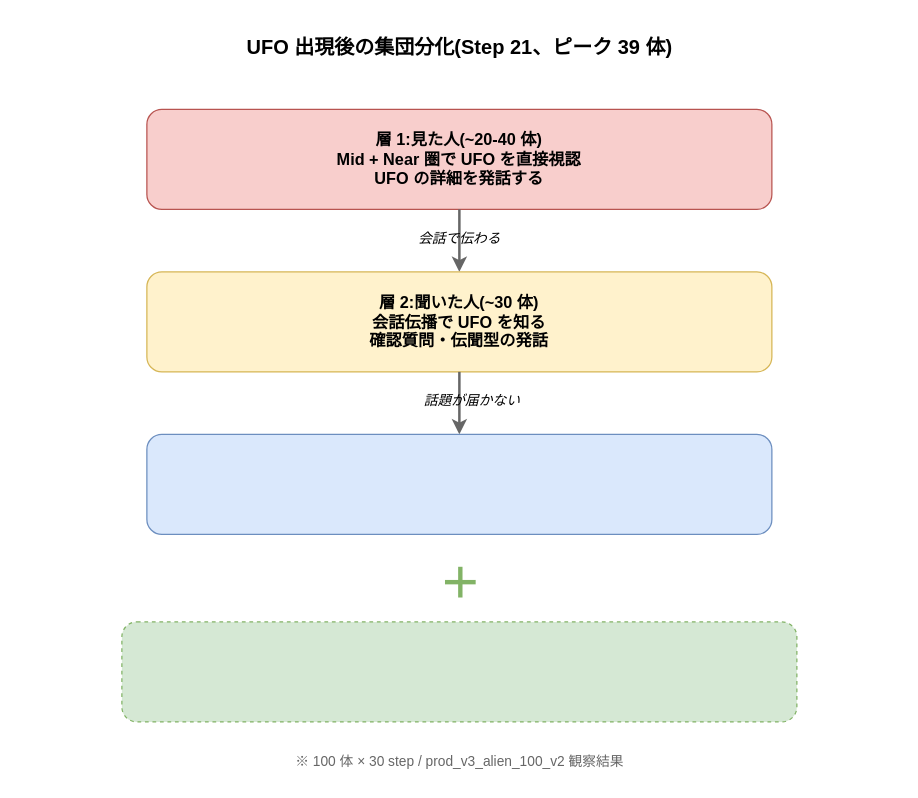
Some shapes in this 918 by 798 pixel diagram are drawn without their labels. Each missing label, with the box of its shape:
専門家モード(自然発生 / A5 のような役回り) 集団規模ゆえに発生する「説明者役」 周囲の質問に答え続けることでハブ化していく: (121, 621, 797, 722)
層 3:無関心 / 別話題継続(~30-40 体) personal_context に基づく日常会話を続ける (犬の散歩・天気・仕事 など): (146, 433, 772, 534)
